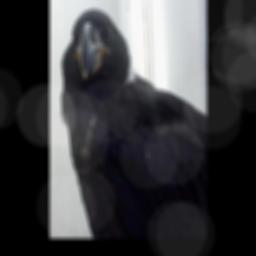Crow: (59, 7, 206, 238)
